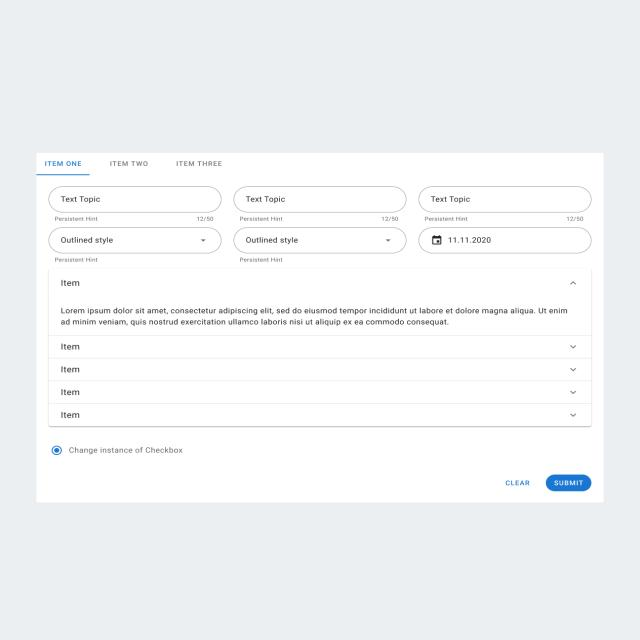QLabel: (174, 160, 223, 168), (42, 160, 82, 168), (108, 160, 148, 167), (554, 480, 584, 486), (505, 479, 530, 486)
VBtn: (546, 474, 592, 492), (497, 474, 538, 492)
VCard: (36, 151, 605, 504)
VCombobox: (48, 226, 222, 264), (233, 226, 407, 264)
VExpansionPanels: (48, 267, 592, 427)
VInlineDatepicker: (418, 227, 592, 254)
VRadio: (51, 444, 184, 456)
VTab: (167, 156, 230, 173), (103, 156, 162, 173), (38, 157, 99, 173)
VTabs: (36, 154, 602, 176)
VTextField: (48, 185, 222, 222), (418, 186, 592, 223), (233, 186, 407, 222)
